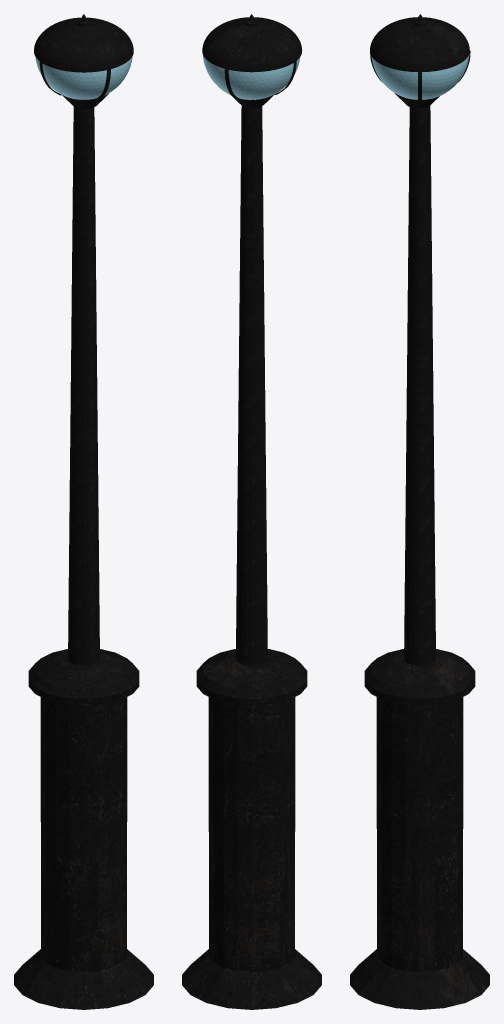
File: streetlamp1.obj
3 views of the same model, side by side, from view 1: azimuth 30°, elevation 25°; view 2: azimuth 150°, elevation 25°; view 3: azimuth 270°, elevation 25° (orthographic).
Visible parts, largest first — view 1: Streetlamp1_l0; view 2: Streetlamp1_l0; view 3: Streetlamp1_l0.
Boxes of the visible parts, bbox=[...] form: Streetlamp1_l0: bbox=[14, 14, 153, 1009]; Streetlamp1_l0: bbox=[182, 14, 321, 1009]; Streetlamp1_l0: bbox=[350, 14, 489, 1009].
Bounding box in the file's own units: 0.7631 × 5.72 × 0.7515.
